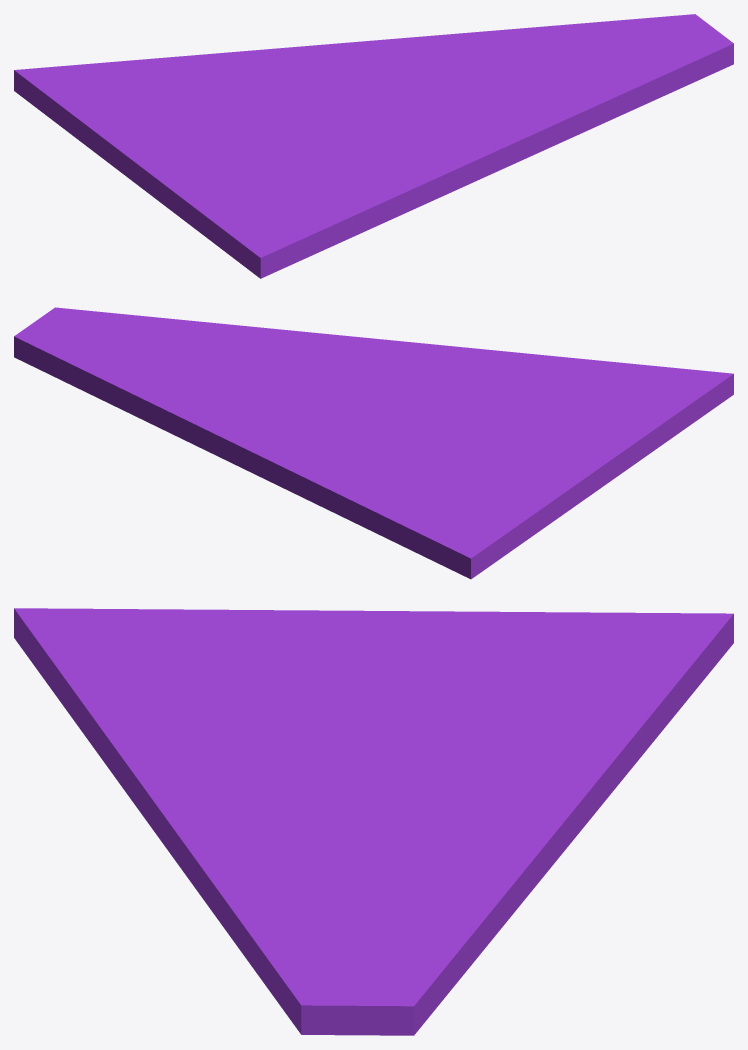
File: StairsStep_31_chunks.fbx
The picture shows the model from 3 angles, top to bottom: view 1: azimuth 30°, elevation 25°; view 2: azimuth 150°, elevation 25°; view 3: azimuth 270°, elevation 25°; orthographic projection. The views are drawn at different scales.
Visible parts, largest first — view 1: StairsStep_31_0, StairsStep_31_1, StairsStep_31_3, StairsStep_31_2; view 2: StairsStep_31_0, StairsStep_31_3, StairsStep_31_1, StairsStep_31_2; view 3: StairsStep_31_0, StairsStep_31_1, StairsStep_31_3, StairsStep_31_2.
Boxes of the visible parts, x1,y1,x2,y2 form: StairsStep_31_0: [41, 93, 501, 278]; StairsStep_31_1: [443, 14, 733, 169]; StairsStep_31_3: [14, 28, 516, 110]; StairsStep_31_2: [409, 87, 526, 162]; StairsStep_31_0: [329, 342, 733, 558]; StairsStep_31_3: [133, 392, 503, 579]; StairsStep_31_1: [14, 307, 351, 418]; StairsStep_31_2: [292, 336, 410, 399]; StairsStep_31_0: [14, 608, 643, 839]; StairsStep_31_1: [160, 823, 502, 1035]; StairsStep_31_3: [374, 613, 733, 925]; StairsStep_31_2: [151, 797, 379, 831].
Size of the model in its own units: 519 by 17.94 by 397.
